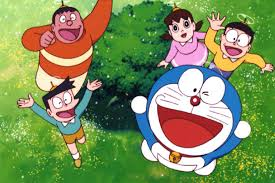doraemon: (129, 63, 251, 177)
